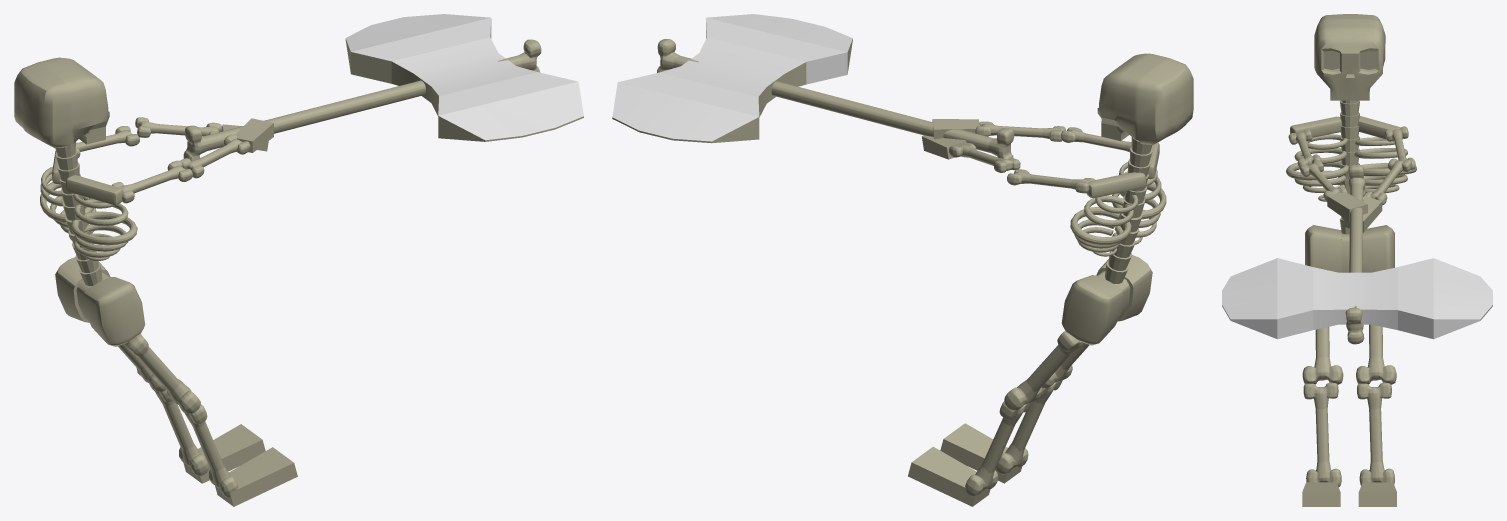
File: AxeSkelle.fbx
3 renders of one model, left to right at view 1: azimuth 30°, elevation 25°; view 2: azimuth 150°, elevation 25°; view 3: azimuth 270°, elevation 25°, orthographic. The views are drawn at different scales.
Parts seen in each view (by area): view 1: CombinedSkelle; view 2: CombinedSkelle; view 3: CombinedSkelle.
Boxes of the visible parts, x1,y1,x2,y2 form: CombinedSkelle: (14,14,583,506); CombinedSkelle: (612,14,1193,506); CombinedSkelle: (1222,14,1492,506).
Bounding box in the file's own units: 8.08 × 6.84 × 4.11.
